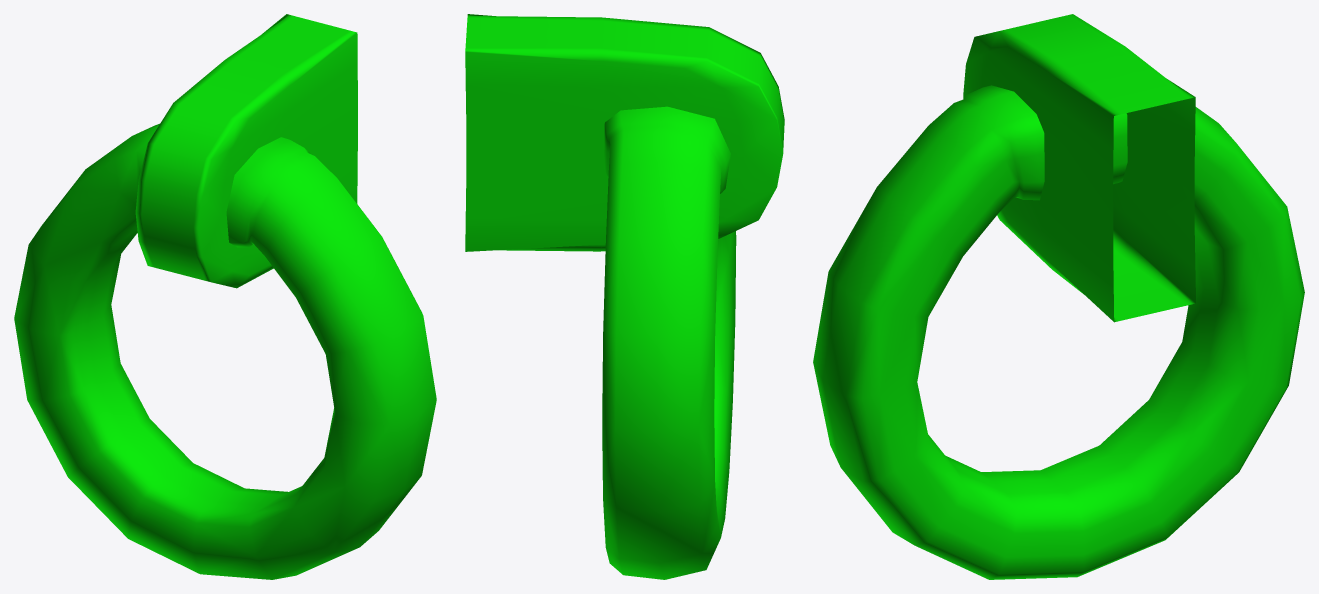
Rendered from tiradorPuerta.fbx.
3 views of the same model, side by side, from view 1: azimuth 30°, elevation 25°; view 2: azimuth 150°, elevation 25°; view 3: azimuth 270°, elevation 25° (orthographic). The views are drawn at different scales.
Visible parts, largest first — view 1: Cylinder.148; view 2: Cylinder.148; view 3: Cylinder.148.
Part boxes in pixels (x1,y1,x2,y2): Cylinder.148: (14, 14, 436, 579); Cylinder.148: (465, 14, 784, 579); Cylinder.148: (813, 14, 1304, 579).
Bounding box in the file's own units: 12.76 × 21.01 × 17.45.
